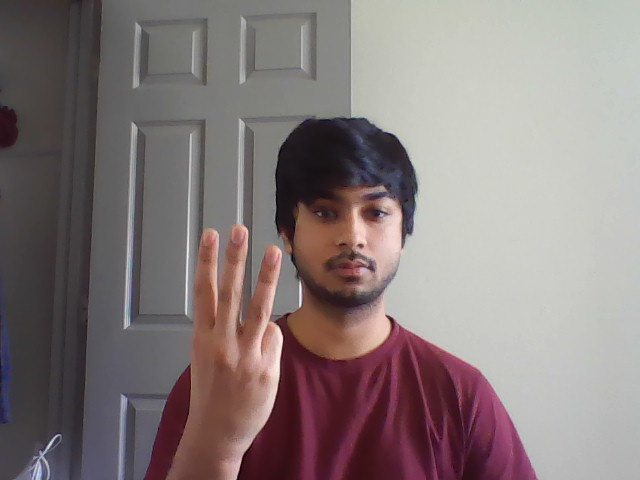three: (186, 216, 285, 349)
